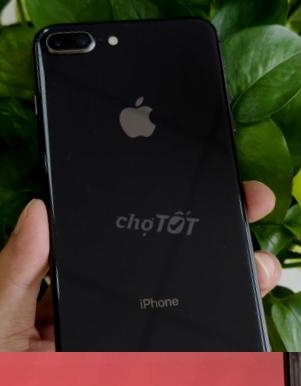scratch: (29, 18, 108, 62), (240, 292, 275, 352), (217, 238, 256, 282), (84, 94, 103, 134), (39, 181, 67, 206), (62, 145, 77, 160)
